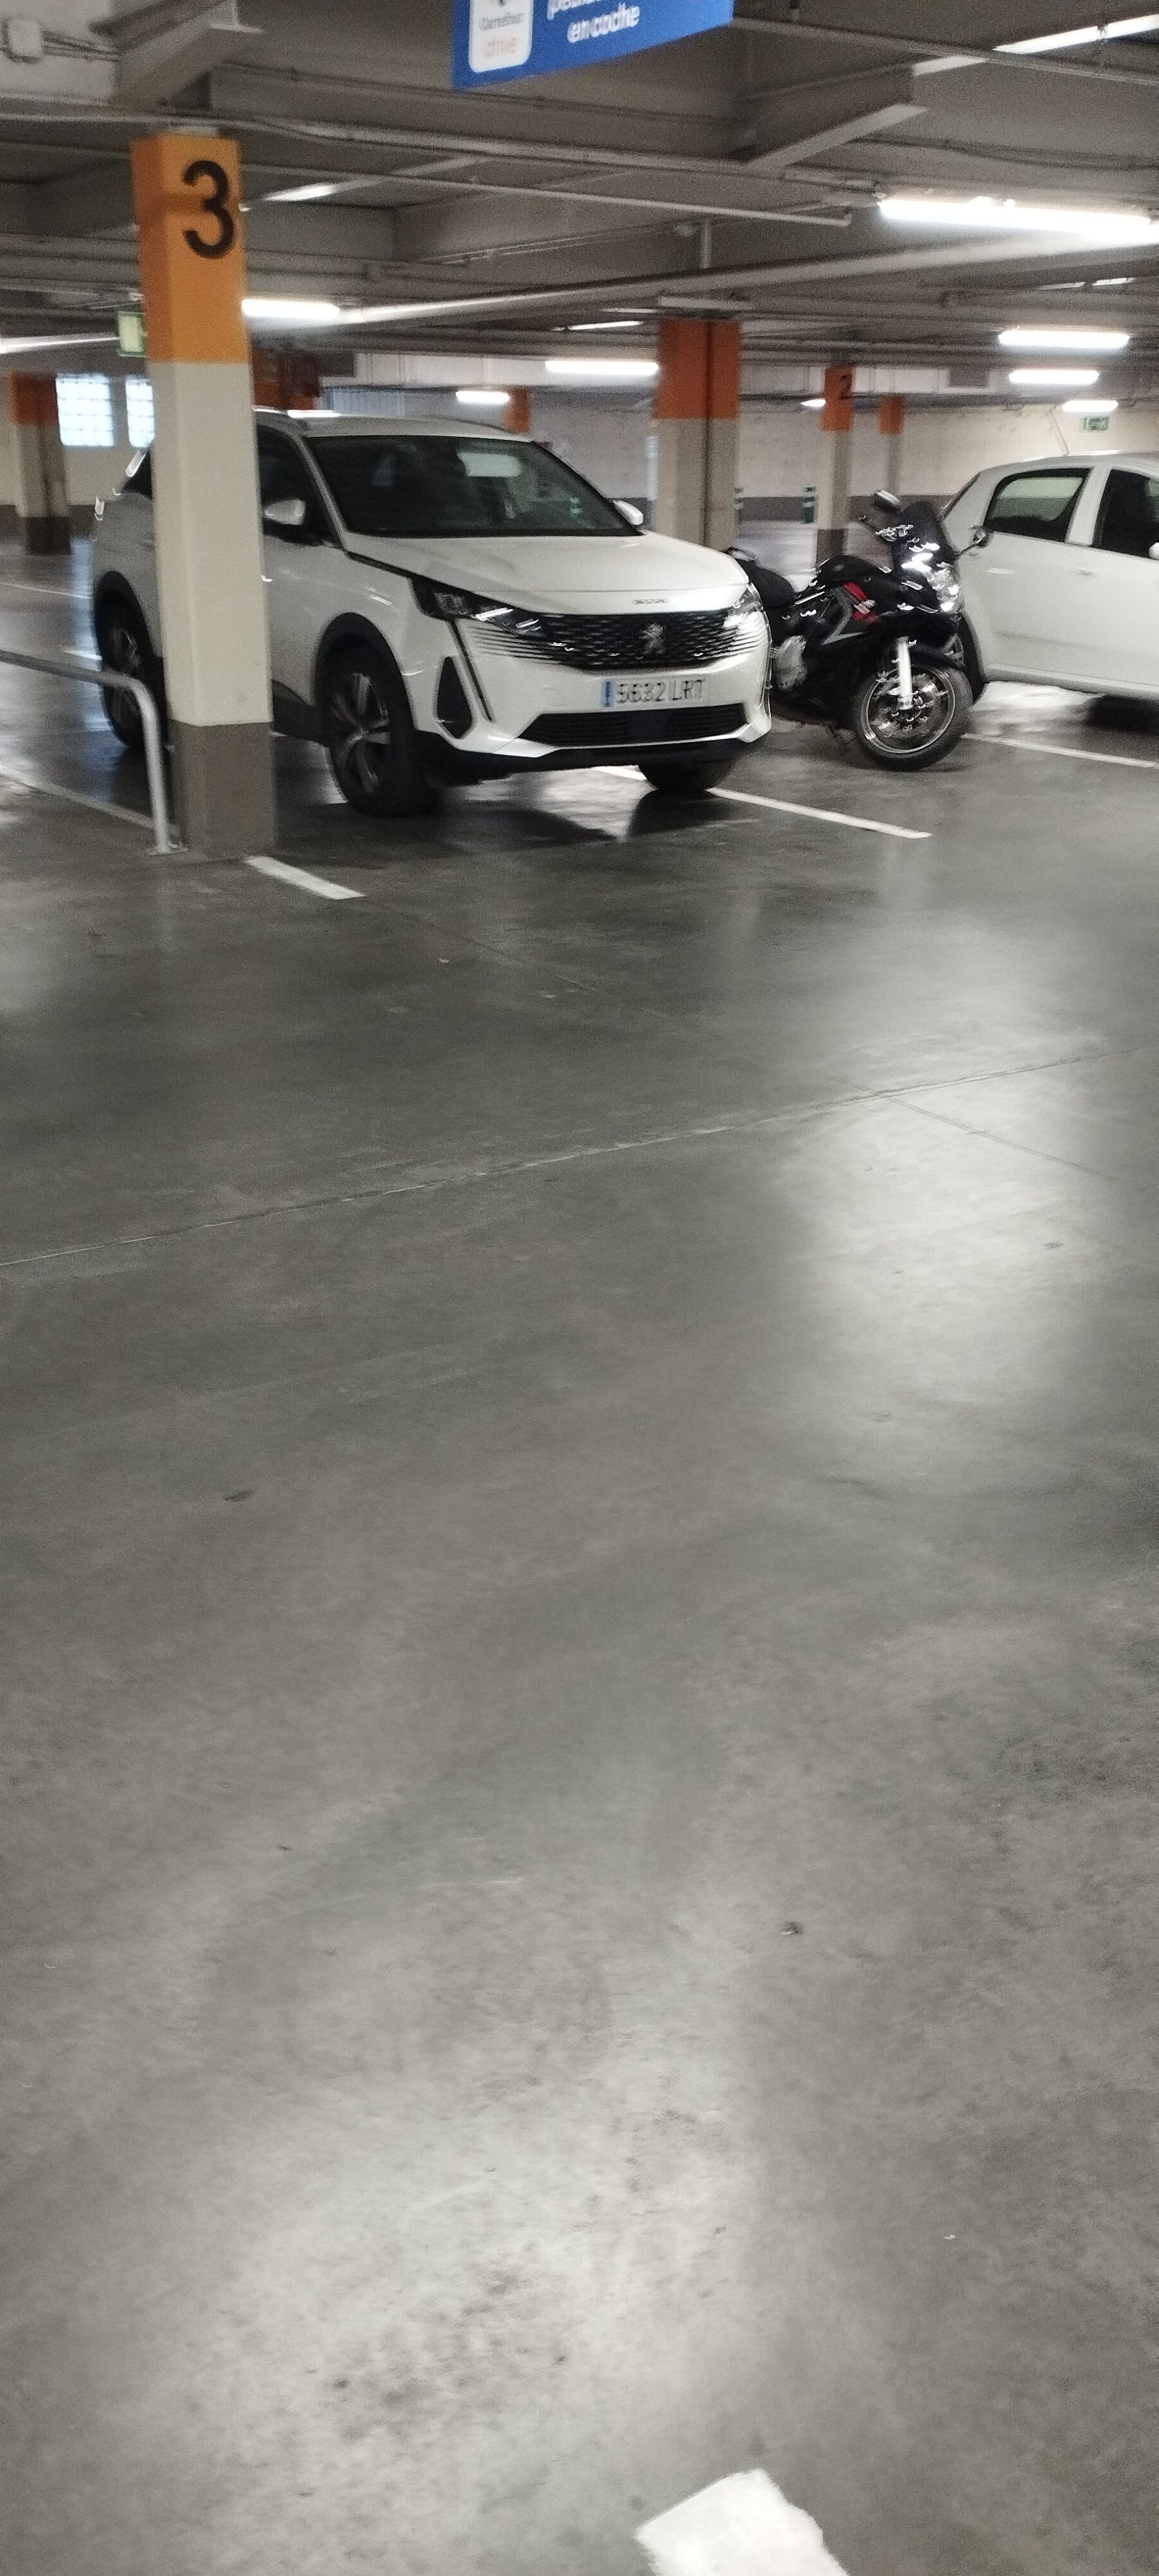Car: (98, 406, 761, 805)
Plate: (602, 677, 707, 707)
